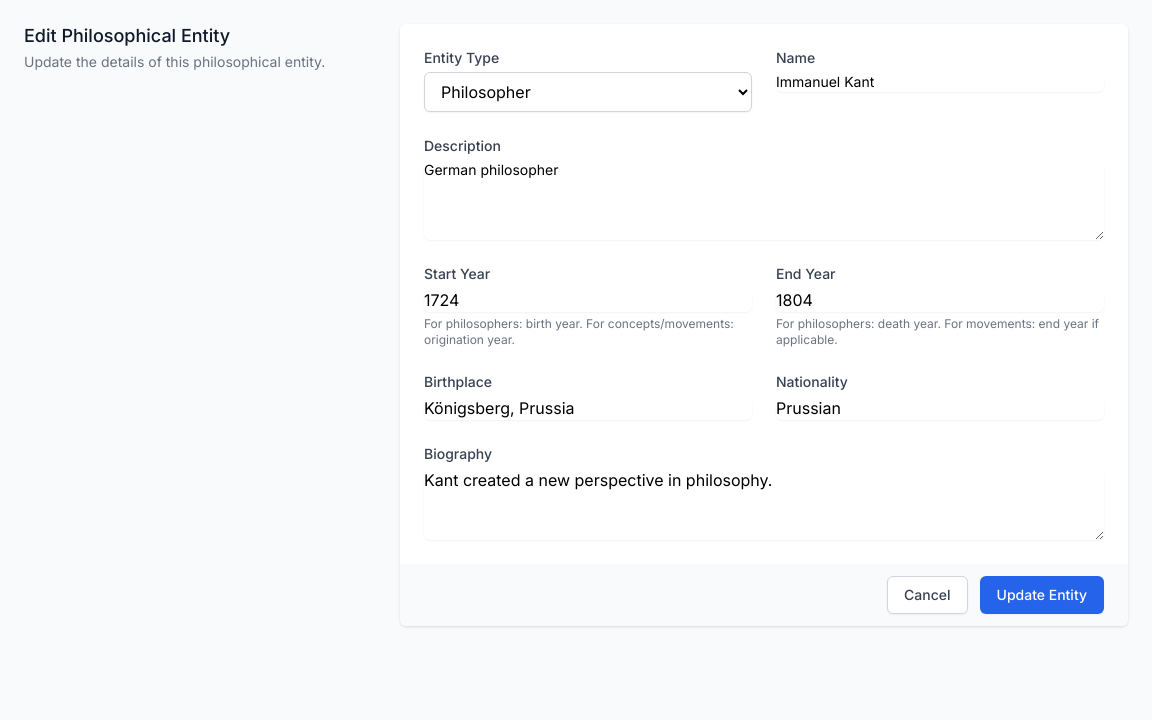
EntityForm Component › handles form submission for updating an entity
This screenshot has width=1152, height=720.
Expected: the field showing "Immanuel Kant" is shown, x1=776 y1=72 x2=1104 y2=92
// Update description field
Replace the text in the text box labelled "Description" with "Updated description": [764, 200] box x1=424 y1=160 x2=1104 y2=240
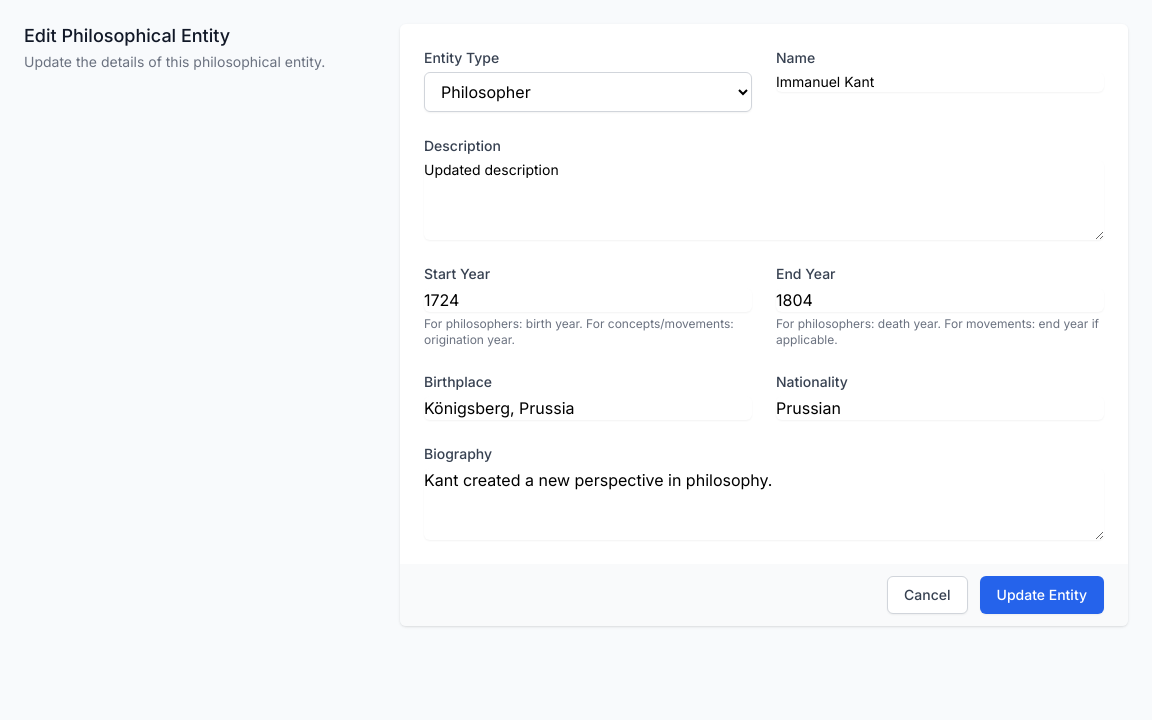
// Submit form
Click the button "Update Entity": [1042, 595] box x1=980 y1=576 x2=1104 y2=614
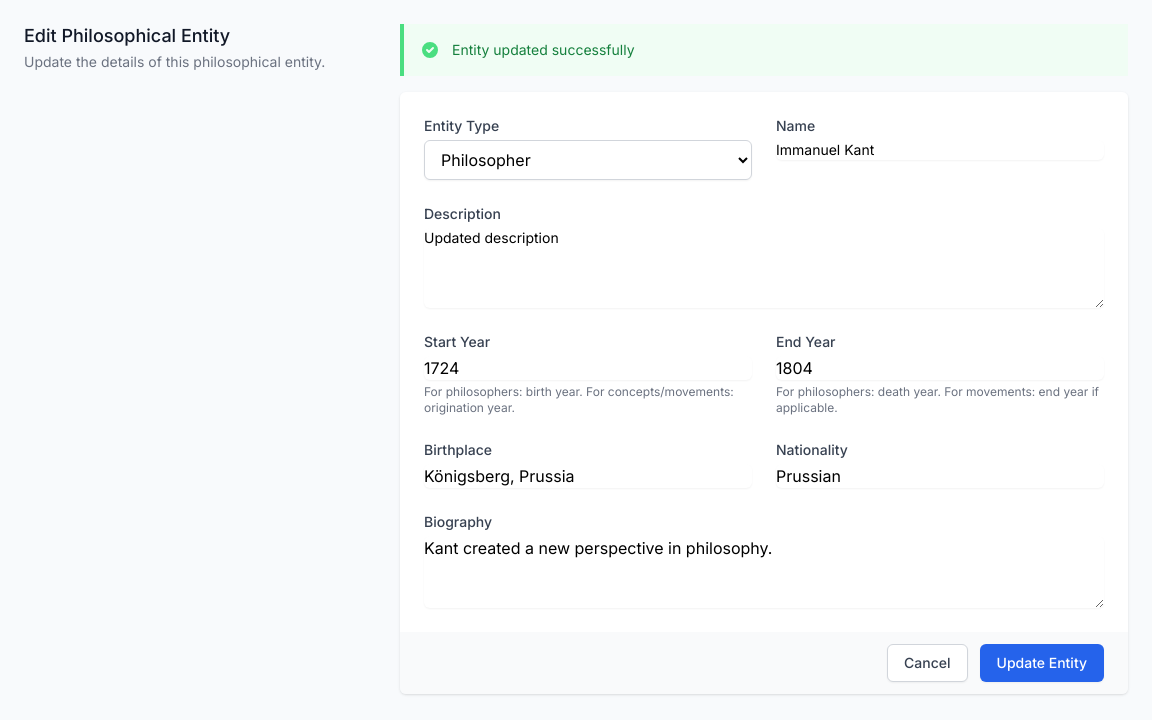
Expected: the button "Updating..." is shown, x1=980 y1=644 x2=1104 y2=682
Now the text "Entity updated successfully" is shown, box x1=452 y1=40 x2=634 y2=60
